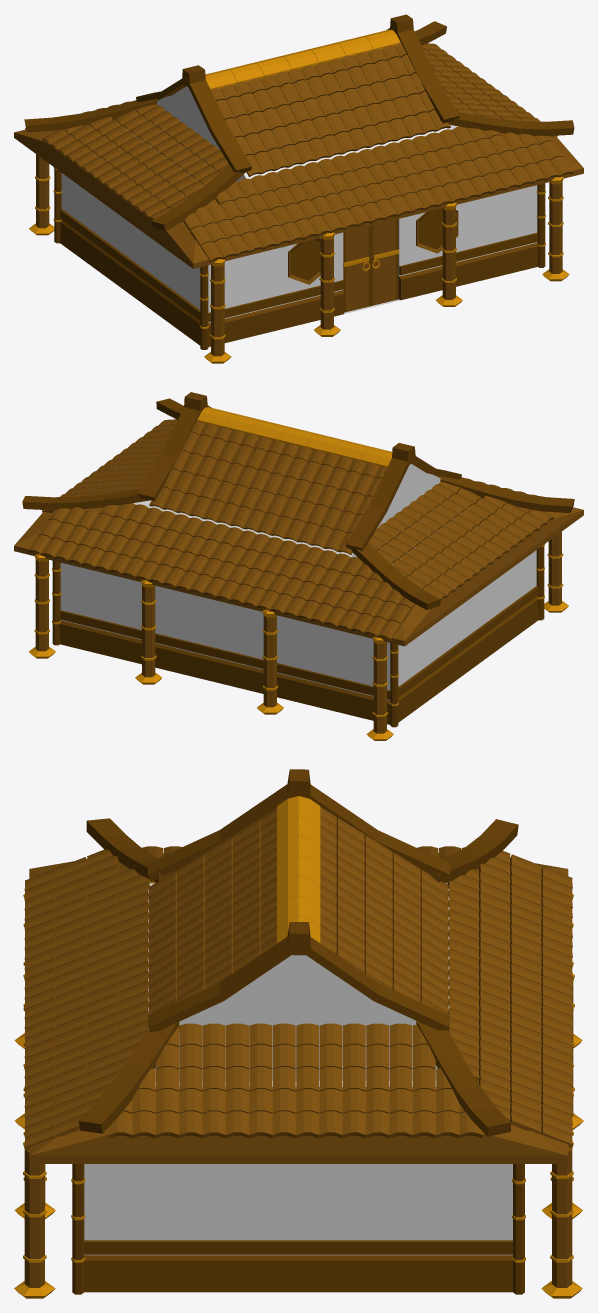
File: Casa02_2.fbx
3 renders of one model, top to bottom at view 1: azimuth 30°, elevation 25°; view 2: azimuth 150°, elevation 25°; view 3: azimuth 270°, elevation 25°, orthographic. The views are drawn at different scales.
Visible parts, largest first — view 1: Telhado.001, House.001; view 2: Telhado.001, House.001; view 3: Telhado.001, House.001.
Boxes of the visible parts, x1=… form: Telhado.001: x1=24, y1=14, x2=574, y2=262; House.001: x1=14, y1=43, x2=583, y2=363; Telhado.001: x1=22, y1=392, x2=574, y2=640; House.001: x1=14, y1=419, x2=583, y2=740; Telhado.001: x1=24, y1=769, x2=572, y2=1150; House.001: x1=14, y1=853, x2=583, y2=1298.
Bounding box in the file's own units: 10.14 × 4.84 × 7.9.
